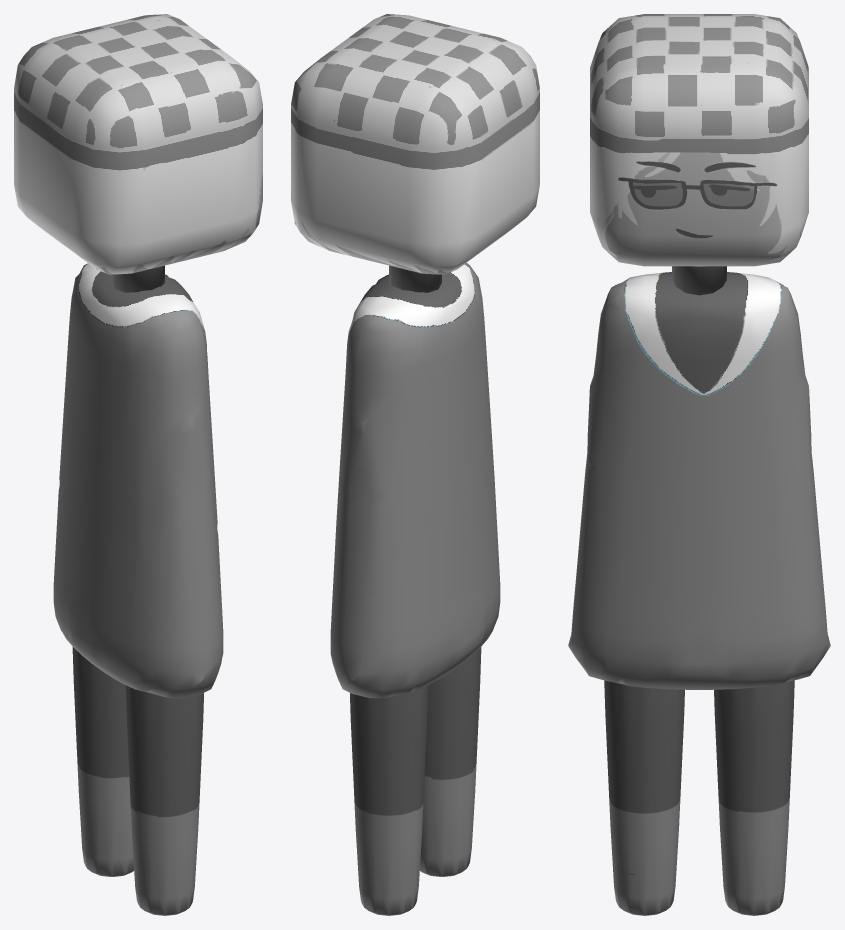
File: mobChara_paint_body_jk.fbx
3 renders of one model, left to right at view 1: azimuth 30°, elevation 25°; view 2: azimuth 150°, elevation 25°; view 3: azimuth 270°, elevation 25°, orthographic. The views are drawn at different scales.
Parts seen in each view (by area): view 1: jk; view 2: jk; view 3: jk.
Boxes of the visible parts, box(x1,y1,x2,y2) form: jk: box(14, 14, 262, 915); jk: box(291, 14, 539, 915); jk: box(568, 14, 830, 915).
Bounding box in the file's own units: 100 × 436 × 120.
Materials: 2 (2 with a texture image).
